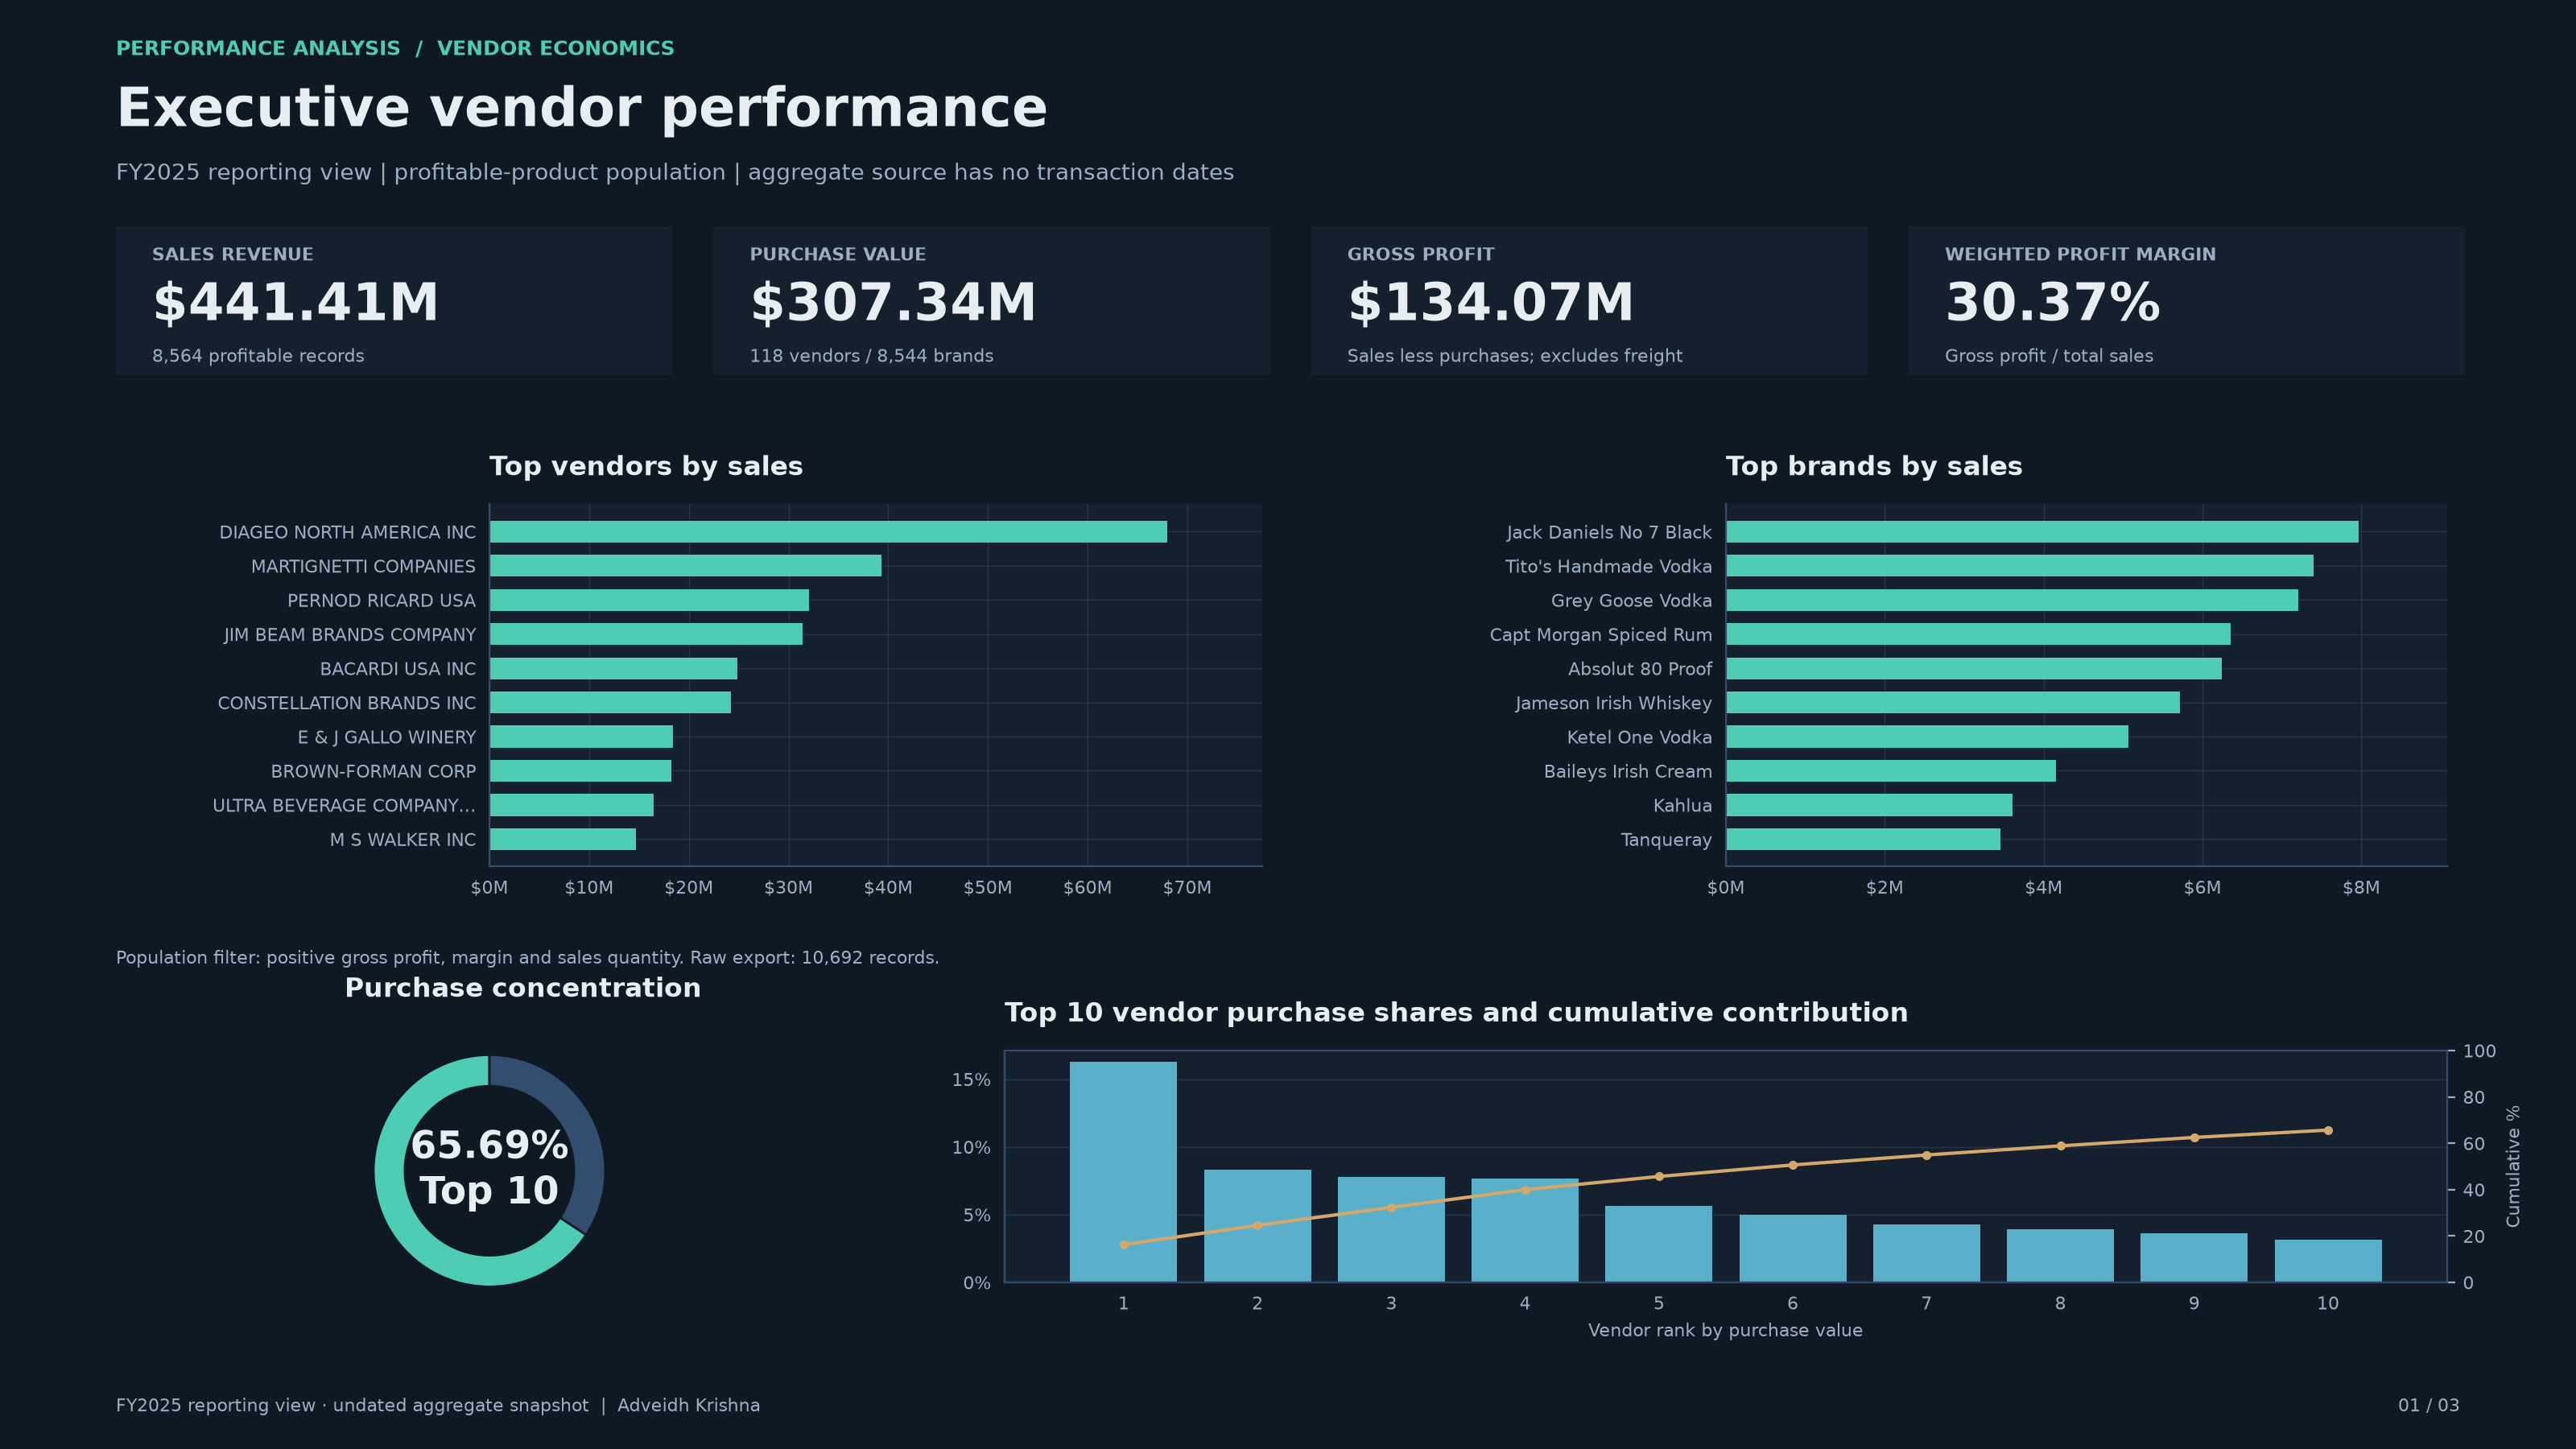

Layout of this report page (visuals, bound fields, positions):
{"tool":"powerbi","page":{"name":"Page 1","canvas":[1280,720],"ordinal":0},"visuals":[{"type":"cardVisual","fields":{"Data":["Sum(vendor_sales_summary_export.TotalSalesDollars)"]},"box":[9.6,78.6,240,120],"z":1000},{"type":"cardVisual","fields":{"Data":["Sum(vendor_sales_summary_export.TotalPurchaseDollars)"]},"box":[265.3,78.6,240,120],"z":2000},{"type":"cardVisual","fields":{"Data":["Sum(vendor_sales_summary_export.GrossProfit)"]},"box":[521,78.6,240,120],"z":3000},{"type":"cardVisual","fields":{"Data":["Avg(vendor_sales_summary_export.ProfitMargin)"]},"box":[776.6,78.5,240.3,120.1],"z":4000},{"type":"cardVisual","fields":{"Data":["vendor_sales_summary_export.UnsoldInventoryValue"]},"box":[1032.6,78.5,240,120.1],"z":5000},{"type":"textbox","box":[0,2.9,1280,75.8],"z":6000},{"type":"donutChart","title":"Purchase Contribution% ","fields":{"Y":["Sum(PurchaseContribution.PurchaseContribution%)"],"Category":["PurchaseContribution.VendorName"]},"box":[10.1,197.7,457.5,294.4],"z":7000},{"type":"barChart","title":"Top Vendors By Sales","fields":{"Category":["vendor_sales_summary_export.VendorName"],"Y":["Sum(vendor_sales_summary_export.TotalSalesDollars)"]},"box":[505.4,197.6,390.9,294.9],"z":8000},{"type":"barChart","title":"Top Brands By Sales","fields":{"Y":["Sum(vendor_sales_summary_export.TotalSalesPrice)"],"Category":["vendor_sales_summary_export.Description"]},"box":[896.3,197.6,376.6,293.5],"z":9000},{"type":"funnel","title":"Low Performing Vendor","fields":{"Category":["LowTurnoverVendor.VendorName"],"Y":["Sum(LowTurnoverVendor.AvgStockTurnOver)"]},"box":[10,492.5,458.2,227.7],"z":10000},{"type":"scatterChart","title":"Low Performing Brands","fields":{"Category":["BrandPerformance.Description"],"X":["Sum(BrandPerformance.TotalSales)"],"Y":["Sum(BrandPerformance.AvgProfitMargin)"],"Series":["BrandPerformance.TargetBrand"]},"box":[505.4,492.5,767.4,227.7],"z":11000}]}

Visuals, with their boxes in screenshot pixels (x1, y1, x2, y2), scaled from the page's 1280x720 canvas onto the 2576x1449 screenshot:
cardVisual - Sum(vendor_sales_summary_export.TotalSalesDollars): 19 158 502 399
cardVisual - Sum(vendor_sales_summary_export.TotalPurchaseDollars): 534 158 1017 399
cardVisual - Sum(vendor_sales_summary_export.GrossProfit): 1048 158 1531 399
cardVisual - Avg(vendor_sales_summary_export.ProfitMargin): 1563 158 2046 399
cardVisual - vendor_sales_summary_export.UnsoldInventoryValue: 2079 158 2562 399
textbox: 0 6 2575 159
"Purchase Contribution% " donutChart: 20 398 941 990
"Top Vendors By Sales" barChart: 1018 398 1804 991
"Top Brands By Sales" barChart: 1804 398 2562 989
"Low Performing Vendor" funnel: 20 991 942 1448
"Low Performing Brands" scatterChart: 1018 991 2562 1448
